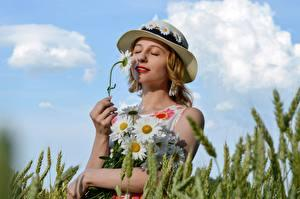chamomile: (123, 137, 148, 159), (134, 121, 161, 137), (112, 119, 131, 133), (159, 25, 179, 35), (146, 22, 158, 31)
